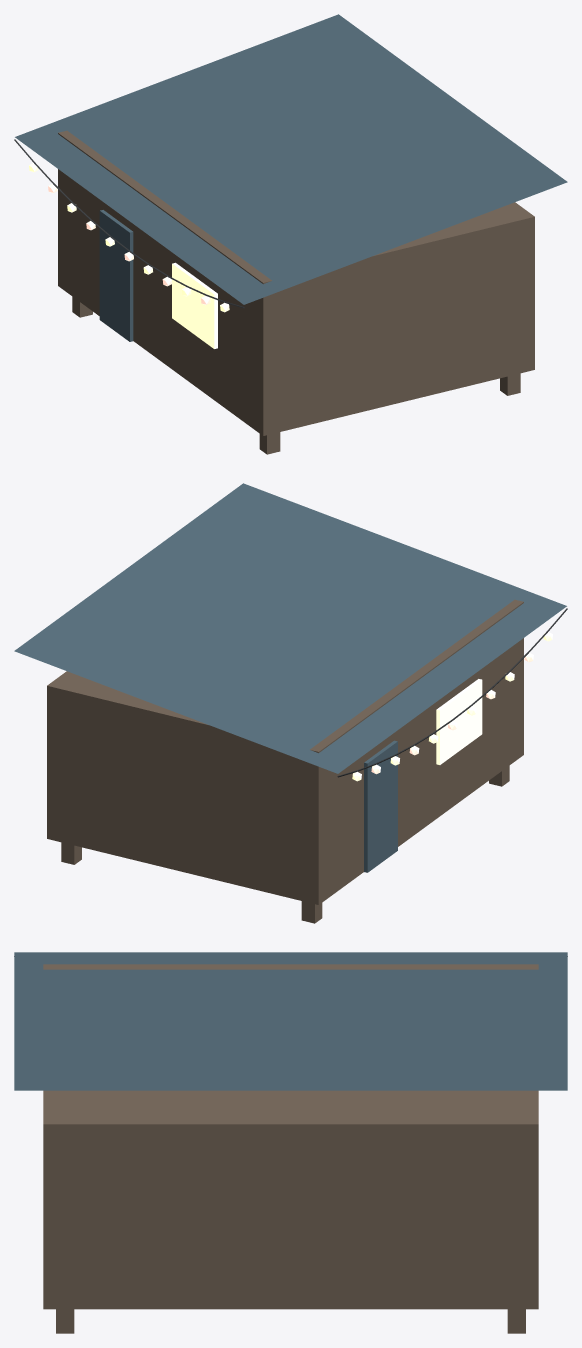
Rendered from shack.glb.
3 views of the same model, one above another, from view 1: azimuth 30°, elevation 25°; view 2: azimuth 150°, elevation 25°; view 3: azimuth 270°, elevation 25° (orthographic). The views are drawn at different scales.
Visible parts, largest first — view 1: shack; view 2: shack; view 3: shack.
Part boxes in pixels (x1,y1,x2,y2): shack: (14, 14, 567, 454); shack: (14, 483, 567, 923); shack: (14, 952, 567, 1333).
Size of the model in its own units: 6.28 by 3.95 by 7.61.
